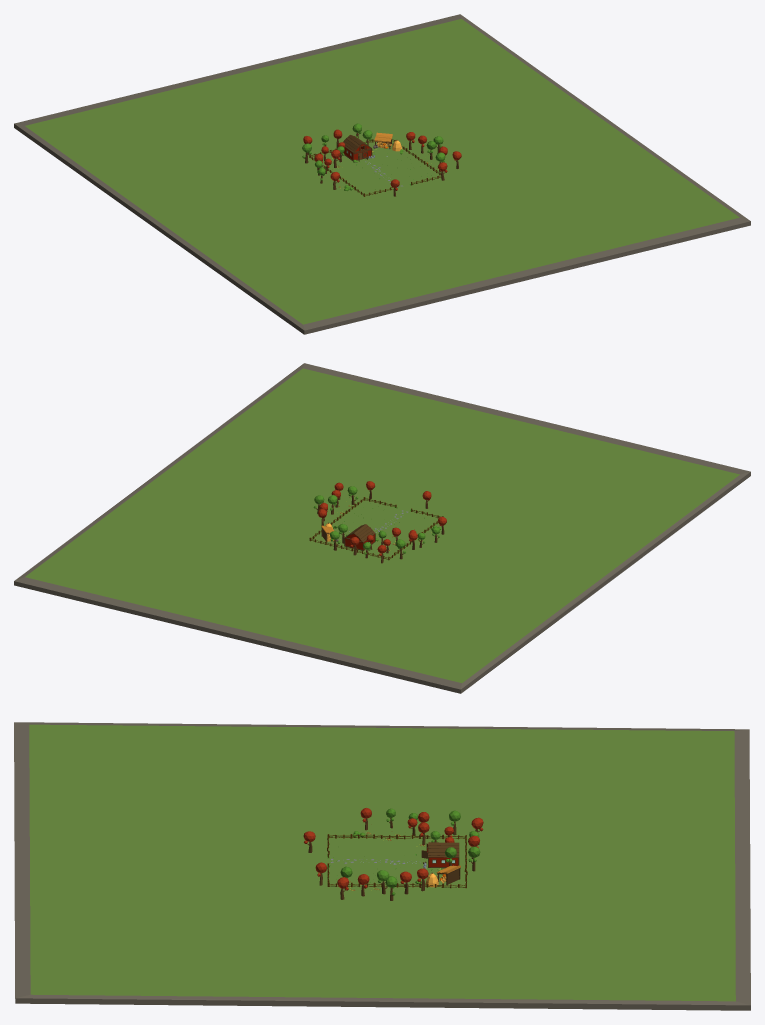
File: ground.glb
3 views of the same model, one above another, from view 1: azimuth 30°, elevation 25°; view 2: azimuth 150°, elevation 25°; view 3: azimuth 270°, elevation 25° (orthographic). The views are drawn at different scales.
Parts seen in each view (by area): view 1: terrain, ambar; view 2: terrain; view 3: terrain, ambar.
Boxes of the visible parts, x1,y1,x2,y2 form: terrain: [14, 14, 750, 334]; ambar: [342, 135, 372, 161]; terrain: [14, 363, 750, 693]; terrain: [14, 722, 750, 1010]; ambar: [421, 842, 459, 868].
Size of the model in its own units: 187 by 10.44 by 211.
